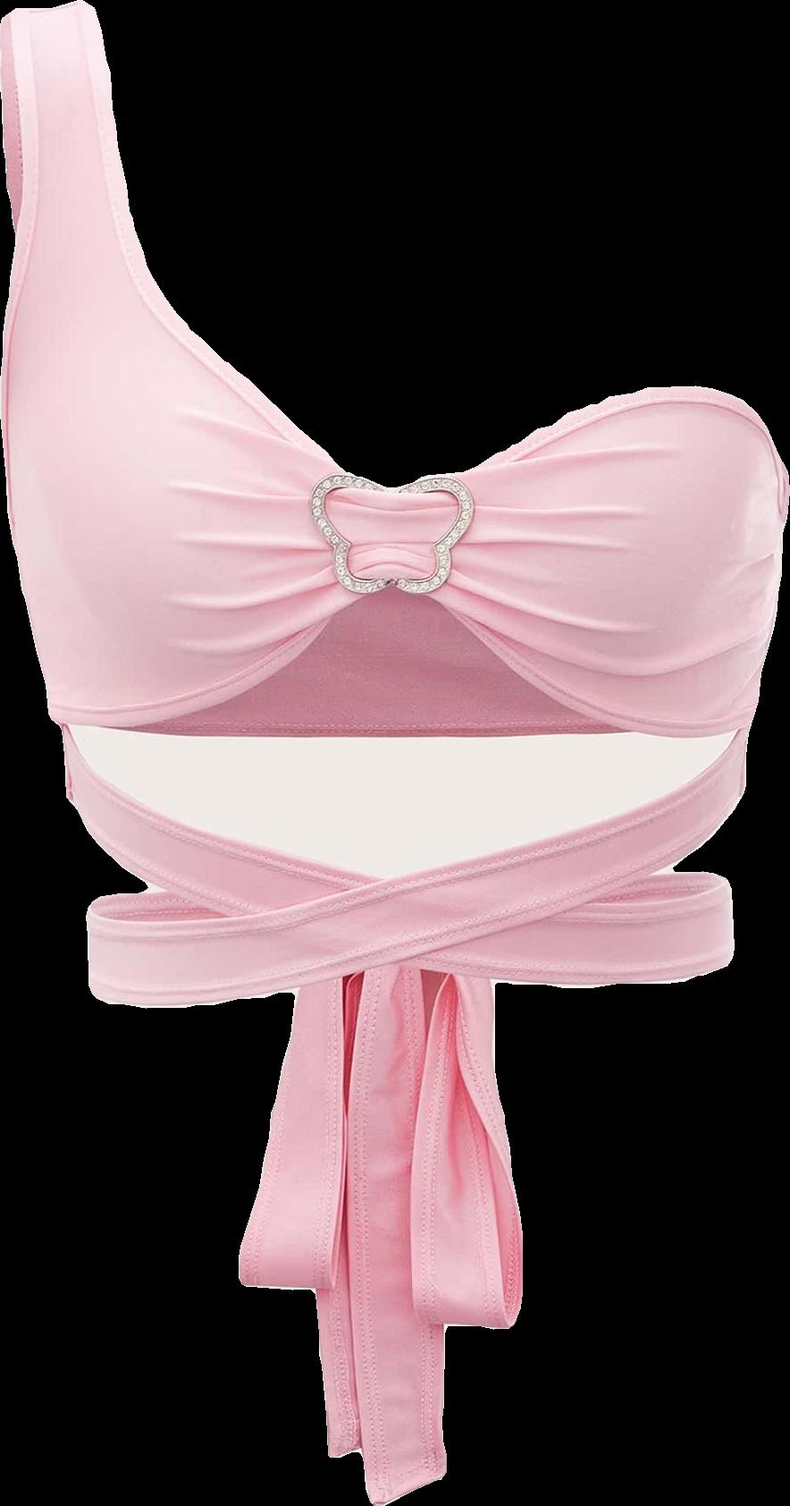Bodice: (0, 1, 789, 1007)
Neckline: (80, 3, 761, 497), (54, 576, 763, 749)
Waistline: (86, 947, 727, 1011)
